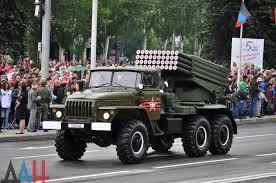MIL_SAM_TEL: (51, 50, 239, 164)
